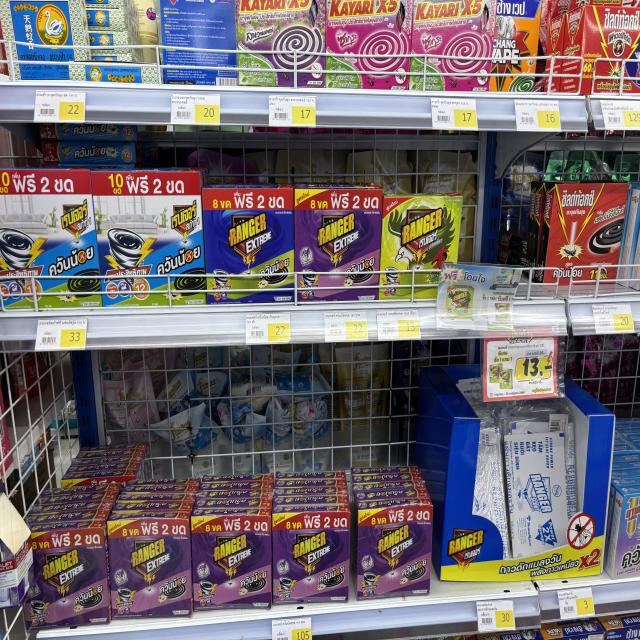empty_shelf: (24, 349, 440, 525), (459, 181, 548, 299)
